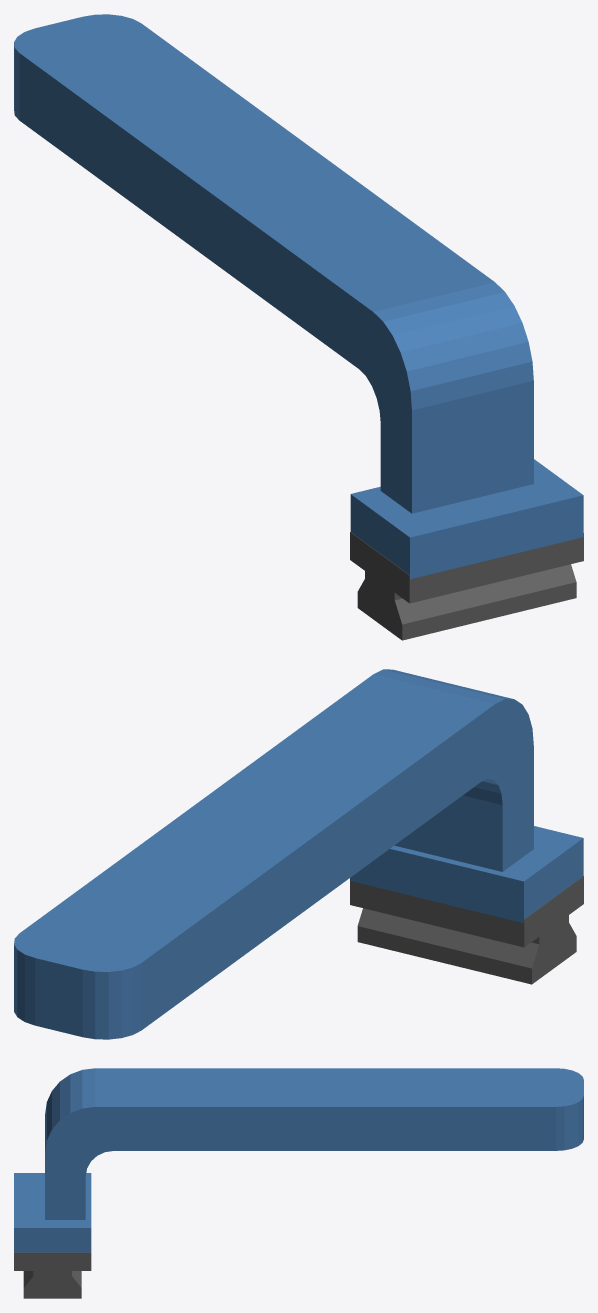
Rendered from VIS_Prism2MidSlider.dae.
3 renders of one model, top to bottom at view 1: azimuth 30°, elevation 25°; view 2: azimuth 150°, elevation 25°; view 3: azimuth 270°, elevation 25°, orthographic. The views are drawn at different scales.
Visible parts, largest first — view 1: VIS_Prism2MidSlider; view 2: VIS_Prism2MidSlider; view 3: VIS_Prism2MidSlider.
Boxes of the visible parts, x1,y1,x2,y2 form: VIS_Prism2MidSlider: (14,14,583,640); VIS_Prism2MidSlider: (14,669,583,1039); VIS_Prism2MidSlider: (14,1068,583,1298).
Size of the model in its own units: 0.0251 by 0.109 by 0.0387.
